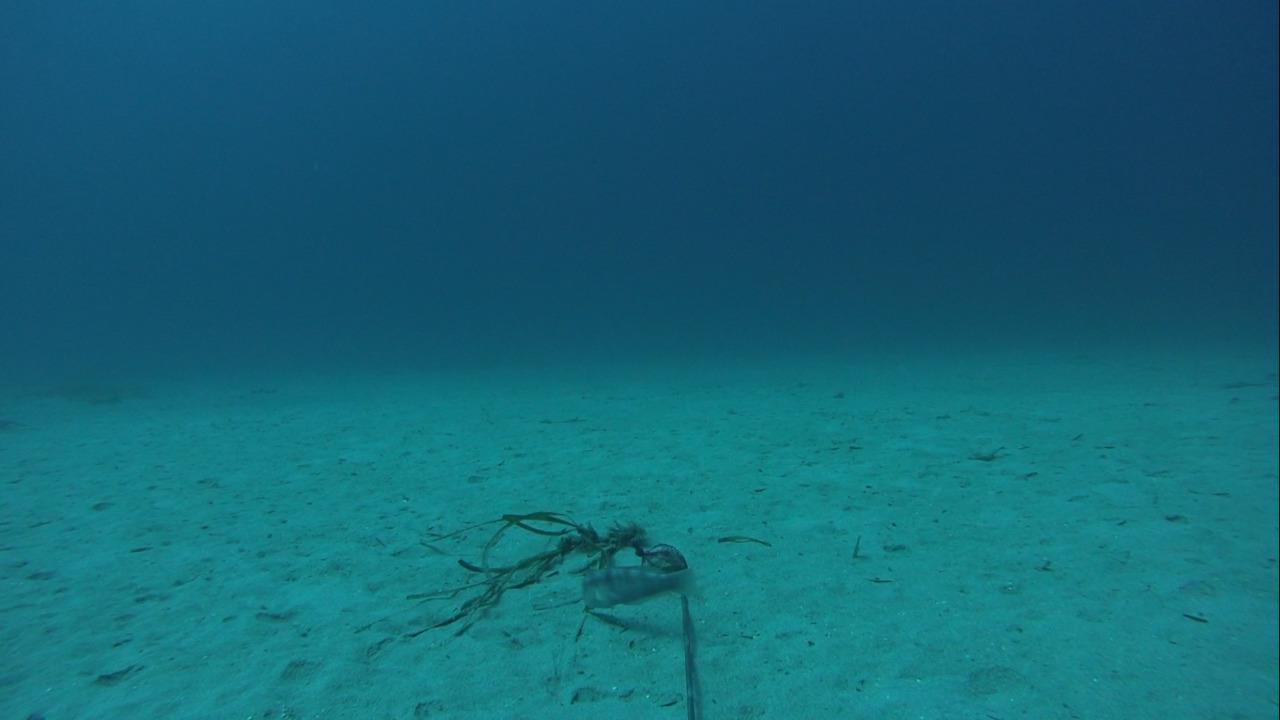raor: (577, 563, 695, 612)
